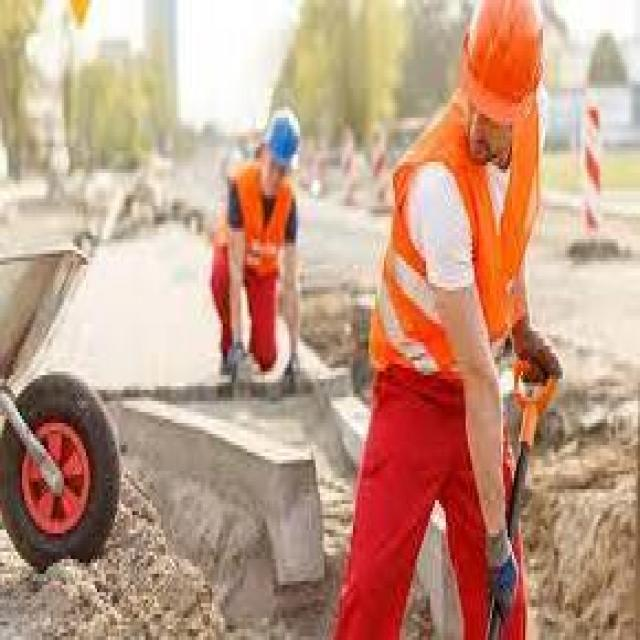Reflective-Jacket: (358, 96, 550, 412), (450, 0, 560, 132), (221, 162, 302, 302)
Safety-Helmet: (448, 0, 556, 129), (254, 100, 307, 180)
